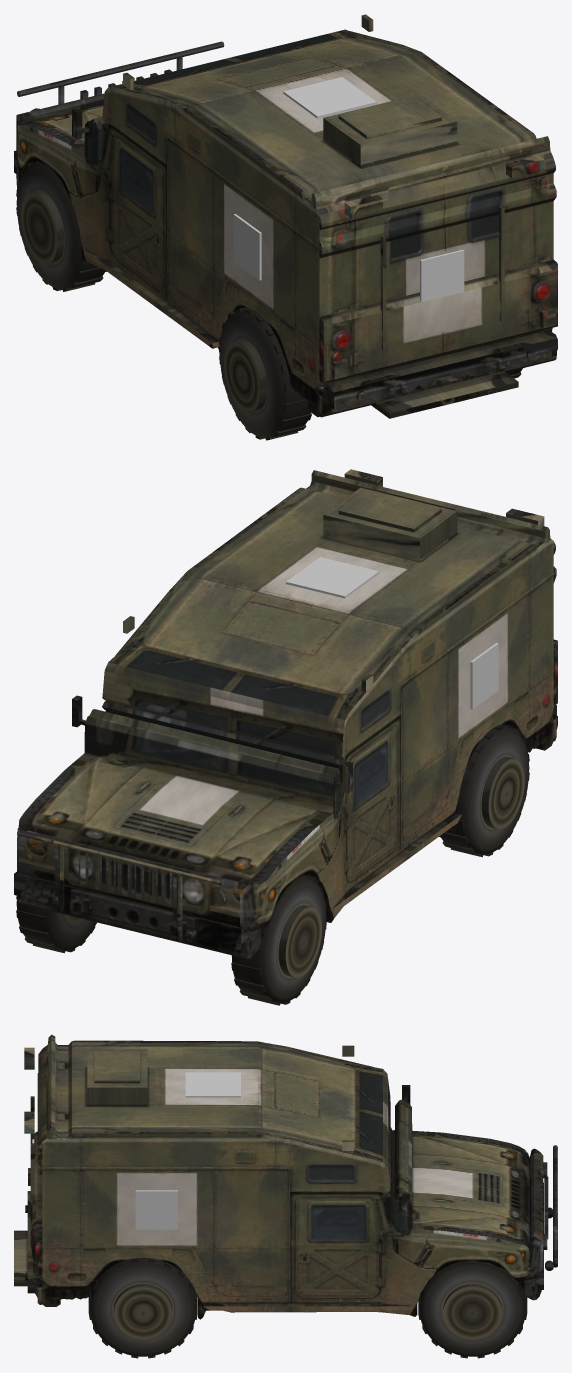
The model's file is hmmwv_medical.glb.
3 views of the same model, one above another, from view 1: azimuth 30°, elevation 25°; view 2: azimuth 150°, elevation 25°; view 3: azimuth 270°, elevation 25° (orthographic). The views are drawn at different scales.
Visible parts, largest first — view 1: Hull, WheelRL, WheelFL; view 2: Hull, WheelRL, WheelFL, WheelFR; view 3: Hull, WheelRR, WheelFR.
Boxes of the visible parts, x1=… form: Hull: x1=14, y1=14, x2=557, y2=418; WheelRL: x1=219, y1=307, x2=311, y2=440; WheelFL: x1=16, y1=161, x2=106, y2=291; Hull: x1=14, y1=469, x2=557, y2=958; WheelRL: x1=439, y1=724, x2=529, y2=857; WheelFL: x1=231, y1=874, x2=326, y2=1005; WheelFR: x1=16, y1=896, x2=96, y2=953; Hull: x1=14, y1=1034, x2=557, y2=1319; WheelRR: x1=88, y1=1257, x2=197, y2=1358; WheelFR: x1=418, y1=1260, x2=527, y2=1358.
Bounding box in the file's own units: 2.57 × 2.68 × 5.4.
2 materials, 1 textured.
